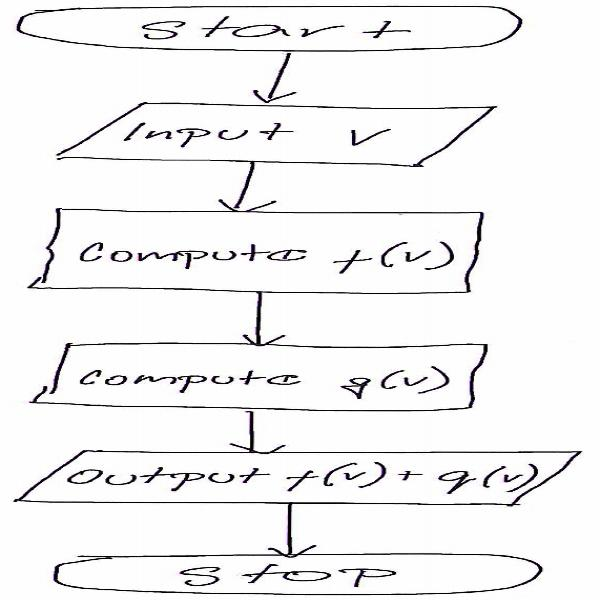arrow: (249, 53, 306, 102), (236, 294, 284, 349), (214, 162, 275, 202), (266, 506, 312, 554), (225, 413, 278, 446)
data: (14, 449, 589, 508), (40, 100, 510, 170)
process: (42, 208, 508, 293), (42, 338, 510, 402)
terminator: (1, 0, 527, 59), (43, 550, 555, 600)
text: (57, 458, 555, 498), (71, 363, 468, 402), (82, 238, 480, 274), (127, 6, 426, 50), (113, 112, 401, 153), (144, 560, 404, 593)
